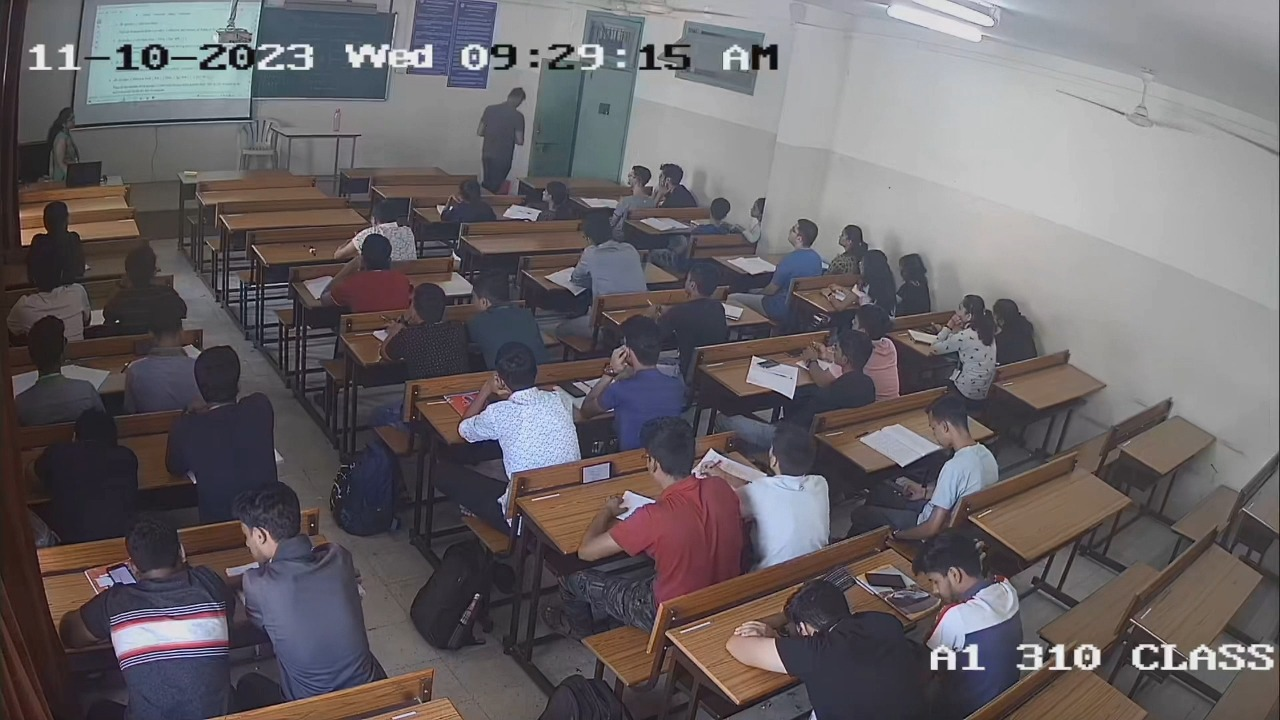cell-phones: (105, 560, 138, 590), (864, 570, 906, 590), (878, 477, 913, 500), (579, 460, 615, 482), (557, 378, 585, 400), (785, 346, 809, 359), (756, 358, 781, 370)
person: (55, 513, 238, 720), (575, 415, 743, 610), (910, 533, 1023, 696), (580, 317, 692, 450), (898, 396, 997, 525), (779, 330, 877, 446)
